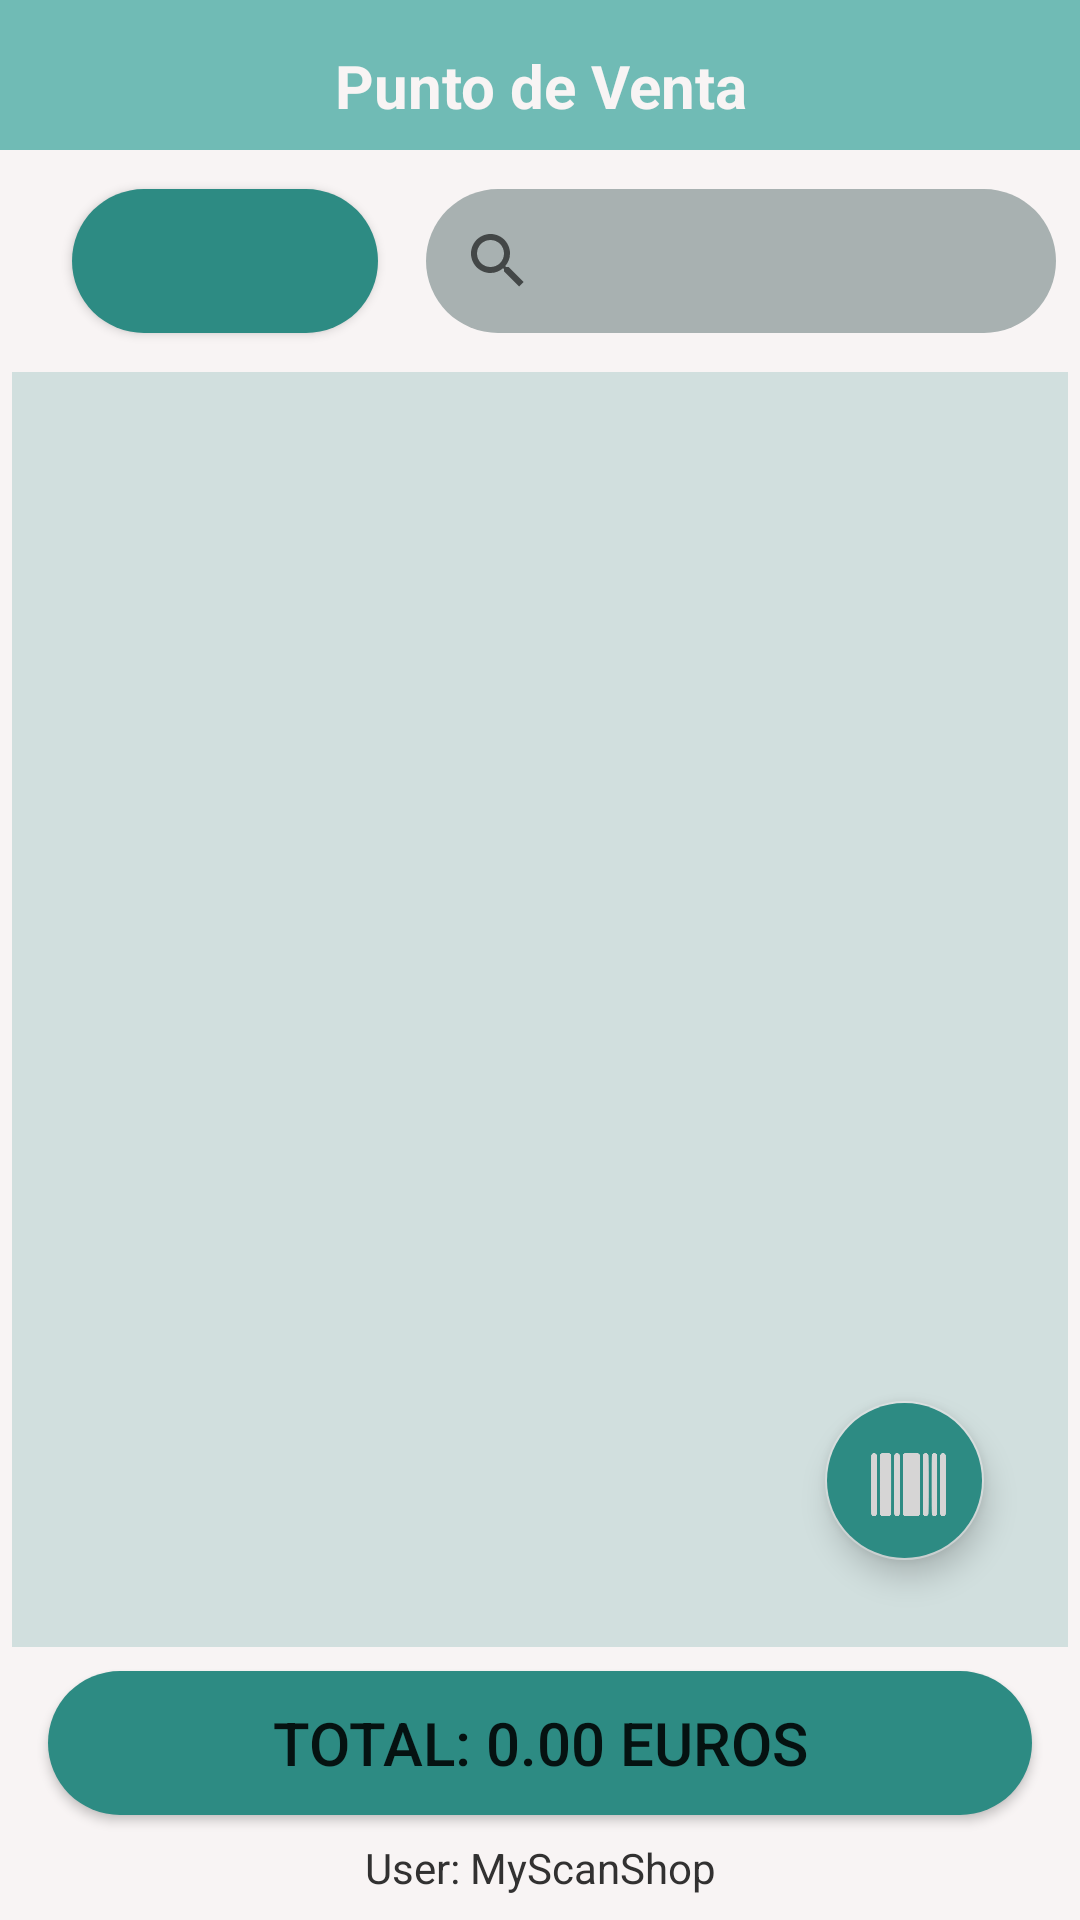

Icons on this 1080×1920 Android screen, each with the point to tap as point (x, y):
barcodeicon: point (904, 1480)
